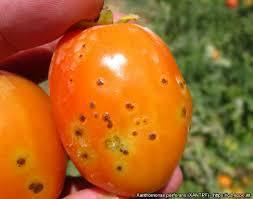tomato bacterial spot: (48, 22, 194, 199), (1, 70, 69, 199)
